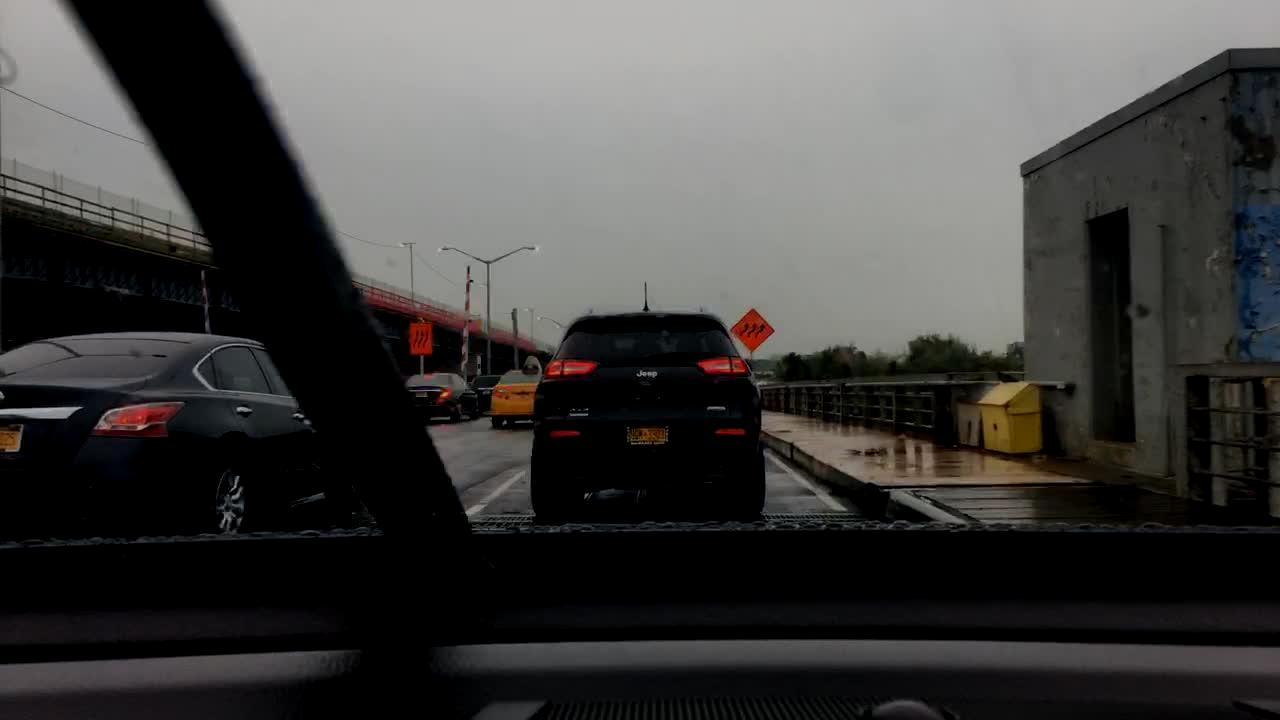jeep: (632, 365, 664, 383)
